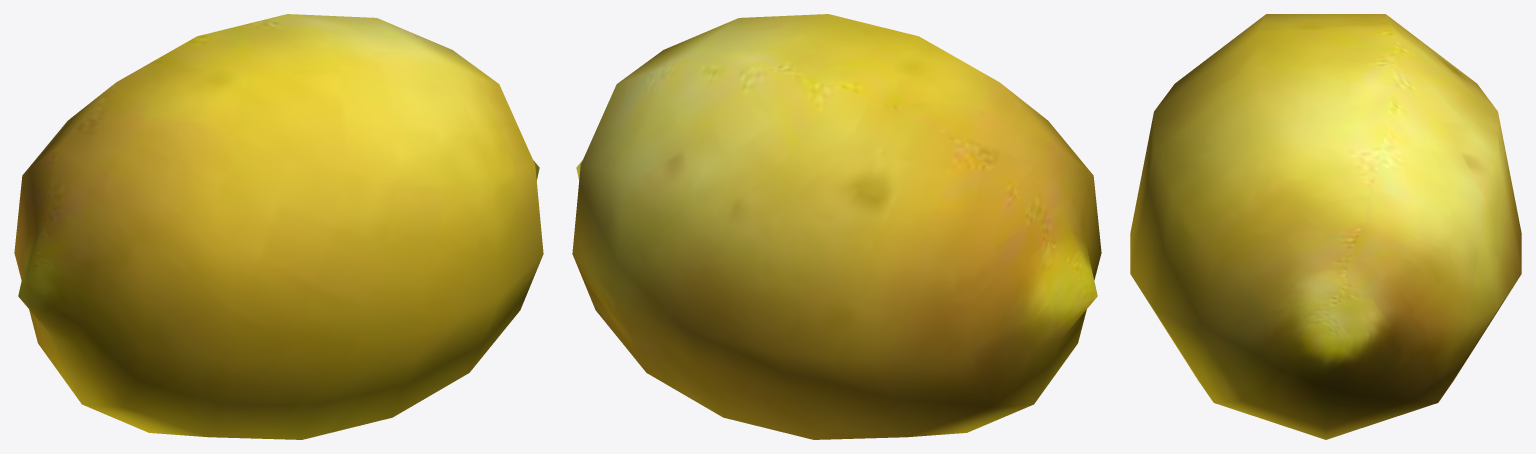
The model's file is SM_lemon_00.gltf.
3 views of the same model, side by side, from view 1: azimuth 30°, elevation 25°; view 2: azimuth 150°, elevation 25°; view 3: azimuth 270°, elevation 25° (orthographic). The views are drawn at different scales.
Visible parts, largest first — view 1: SM_lemon_00; view 2: SM_lemon_00; view 3: SM_lemon_00.
Part boxes in pixels (x1,y1,x2,y2): SM_lemon_00: [14, 14, 543, 439]; SM_lemon_00: [572, 14, 1101, 439]; SM_lemon_00: [1130, 14, 1521, 439].
Bounding box in the file's own units: 0.216 × 0.1475 × 0.1497.
Materials: 1 (1 with a texture image).
